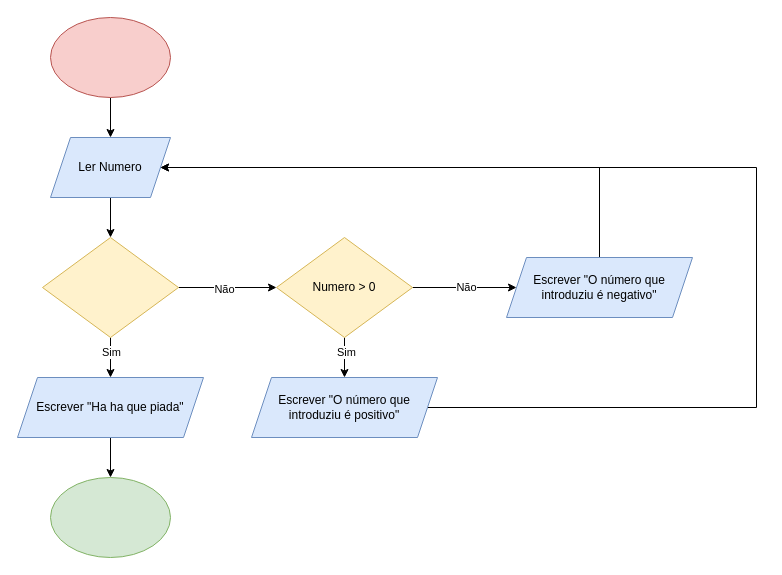
Image size: 782x575. Some labels were removed from this diagram. Each missing label, with the centre of its shape:
"Fim" goes at (110,517).
"Início" goes at (110,57).
"Numero = 0" goes at (110,287).
